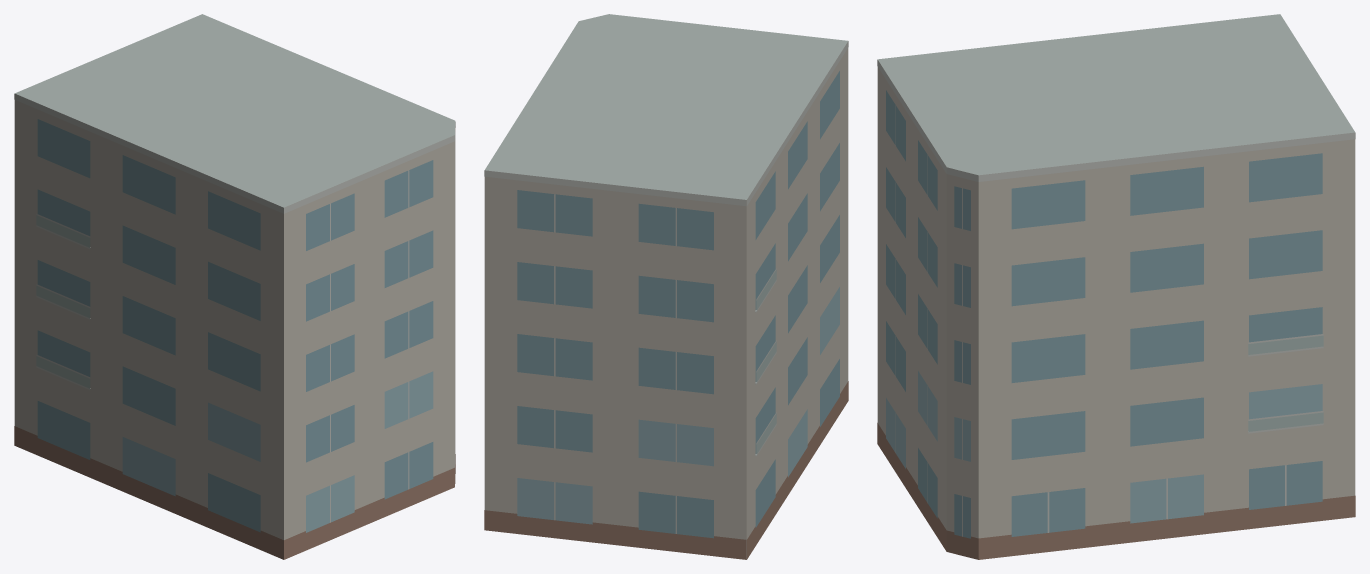
The model's file is survey-upis-32721339.glb.
3 renders of one model, left to right at view 1: azimuth 30°, elevation 25°; view 2: azimuth 150°, elevation 25°; view 3: azimuth 270°, elevation 25°, orthographic. The views are drawn at different scales.
Parts seen in each view (by area): view 1: survey-upis-32721339.tmp; view 2: survey-upis-32721339.tmp; view 3: survey-upis-32721339.tmp.
Part boxes in pixels (bbox=[...]): survey-upis-32721339.tmp: bbox=[14, 14, 455, 559]; survey-upis-32721339.tmp: bbox=[484, 14, 848, 559]; survey-upis-32721339.tmp: bbox=[877, 14, 1355, 559].
Size of the model in its own units: 12.51 by 13.9 by 15.67.
